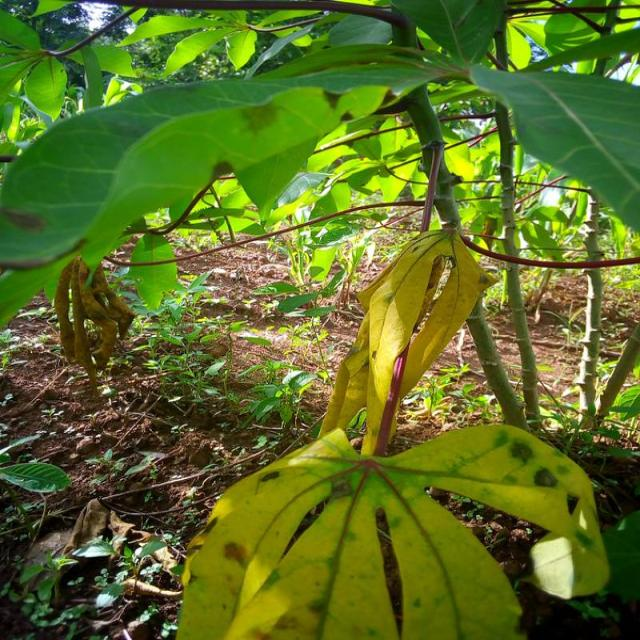cassava leaf: (175, 226, 610, 638), (469, 63, 639, 232)
